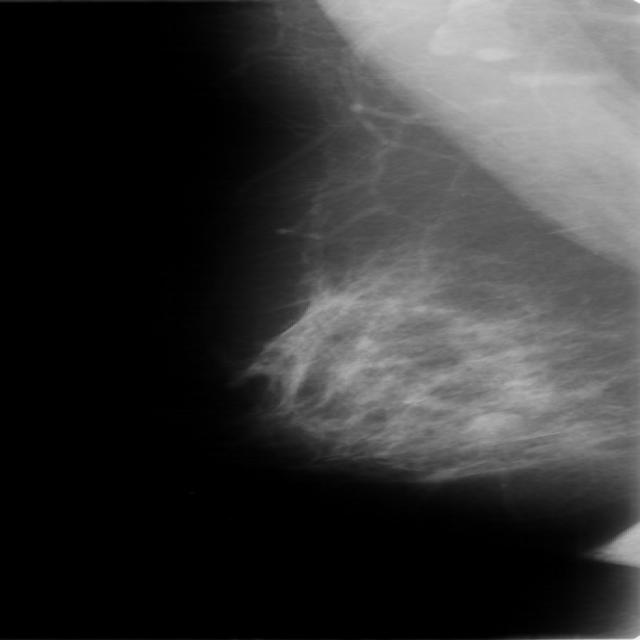tumour: (461, 410, 522, 438)
